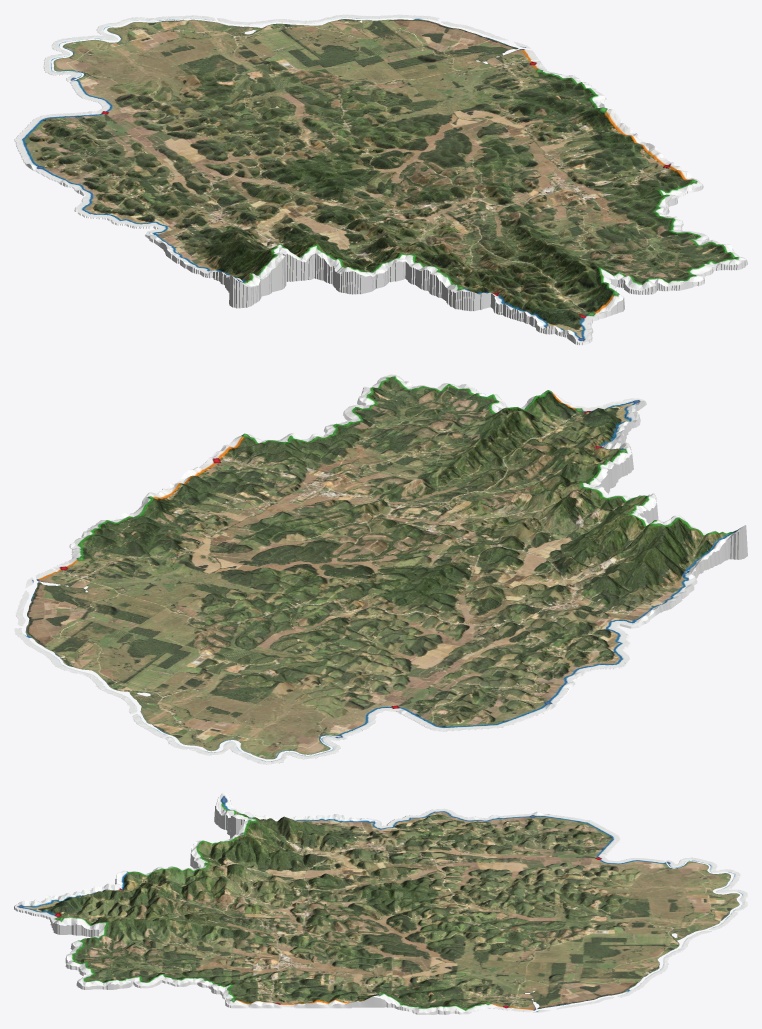
The picture shows the model from 3 angles, top to bottom: view 1: azimuth 30°, elevation 25°; view 2: azimuth 150°, elevation 25°; view 3: azimuth 270°, elevation 25°; orthographic projection. The views are drawn at different scales.
Size of the model in its own units: 1 by 0.0585 by 1.51.
Materials: 1 (1 with a texture image).
